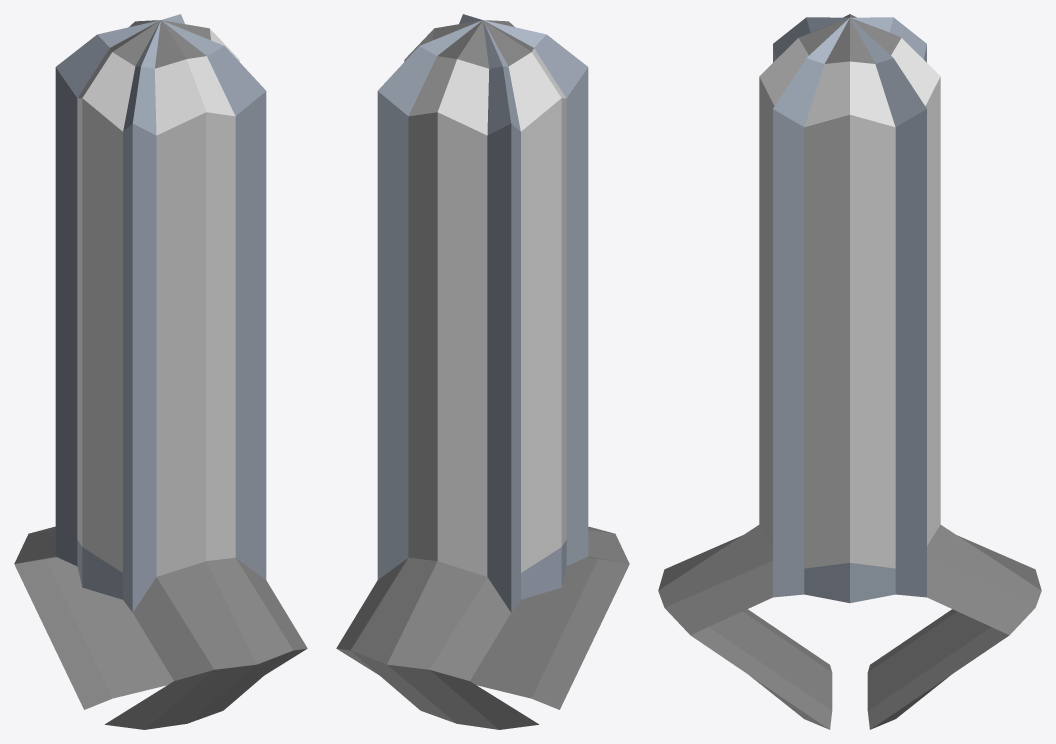
The model's file is placebo stim.glb.
3 views of the same model, side by side, from view 1: azimuth 30°, elevation 25°; view 2: azimuth 150°, elevation 25°; view 3: azimuth 270°, elevation 25° (orthographic).
Visible parts, largest first — view 1: Placebostim; view 2: Placebostim; view 3: Placebostim.
Part boxes in pixels (x1=…): Placebostim: x1=14, y1=14, x2=307, y2=729; Placebostim: x1=336, y1=14, x2=629, y2=729; Placebostim: x1=658, y1=14, x2=1041, y2=729.
Bounding box in the file's own units: 0.0854 × 0.3552 × 0.1807.
Materials: 1 (1 with a texture image).
